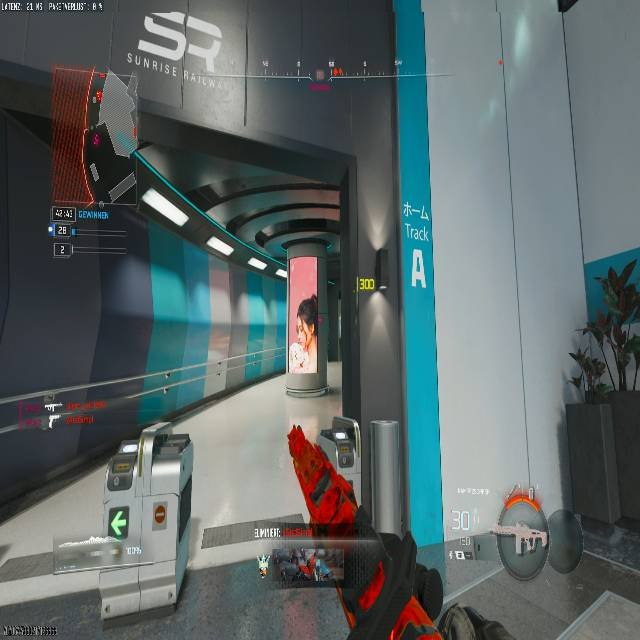player: (296, 294, 318, 352)
